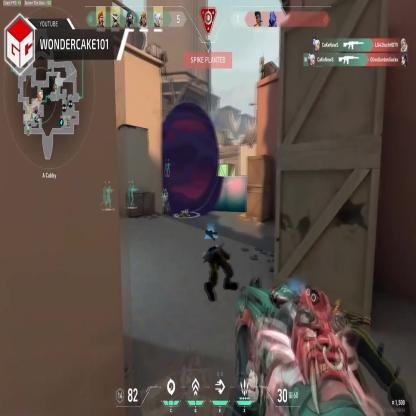enemy: (162, 188, 171, 214)
enemy_head: (165, 190, 168, 194)
